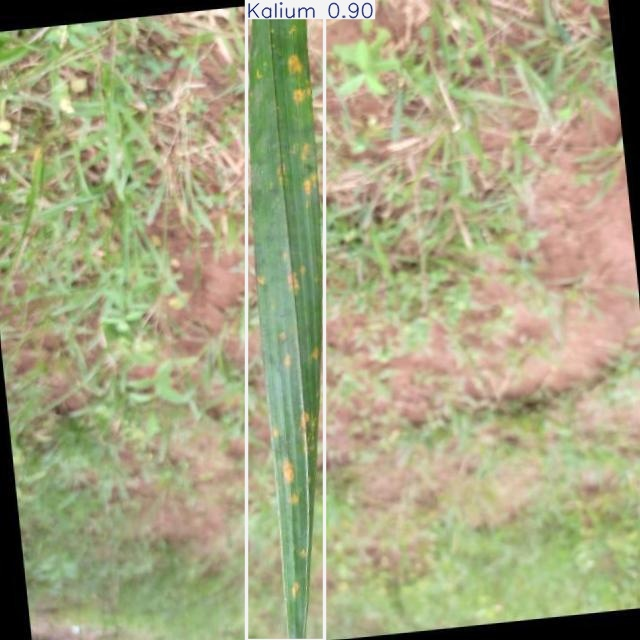Kalium: (246, 1, 324, 640)
